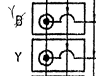Single Phase Tap-Off Unit: (28, 36, 90, 74), (29, 1, 90, 37)
